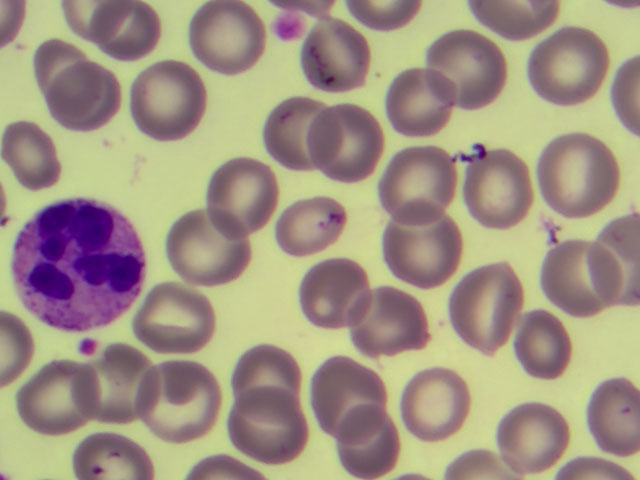Platelets: (270, 13, 306, 40), (78, 340, 97, 359)
RBC: (307, 354, 391, 443), (526, 23, 608, 107), (450, 262, 524, 355), (378, 144, 460, 227), (141, 360, 220, 446), (130, 60, 208, 146), (166, 208, 254, 284), (539, 237, 617, 321), (427, 30, 507, 111), (383, 202, 462, 284), (205, 156, 281, 240), (538, 134, 617, 214), (265, 94, 341, 175), (495, 394, 570, 472), (141, 281, 220, 355), (349, 288, 432, 358), (308, 103, 383, 180), (225, 390, 306, 461), (82, 357, 161, 429), (191, 1, 267, 75), (230, 346, 303, 420), (297, 258, 369, 332), (385, 67, 457, 140), (399, 368, 470, 442), (18, 363, 93, 433), (51, 65, 124, 132), (587, 213, 640, 305), (274, 194, 348, 259), (468, 149, 530, 226), (334, 405, 400, 477), (66, 430, 157, 480), (514, 308, 571, 386), (586, 375, 640, 453), (89, 2, 162, 59), (5, 121, 65, 189), (35, 39, 94, 103), (469, 1, 559, 33), (179, 450, 270, 480), (1, 307, 31, 393), (62, 1, 132, 36), (445, 446, 516, 480), (546, 453, 632, 480), (612, 55, 640, 134), (343, 1, 424, 28), (1, 1, 27, 45)
WBC: (14, 199, 150, 329)
